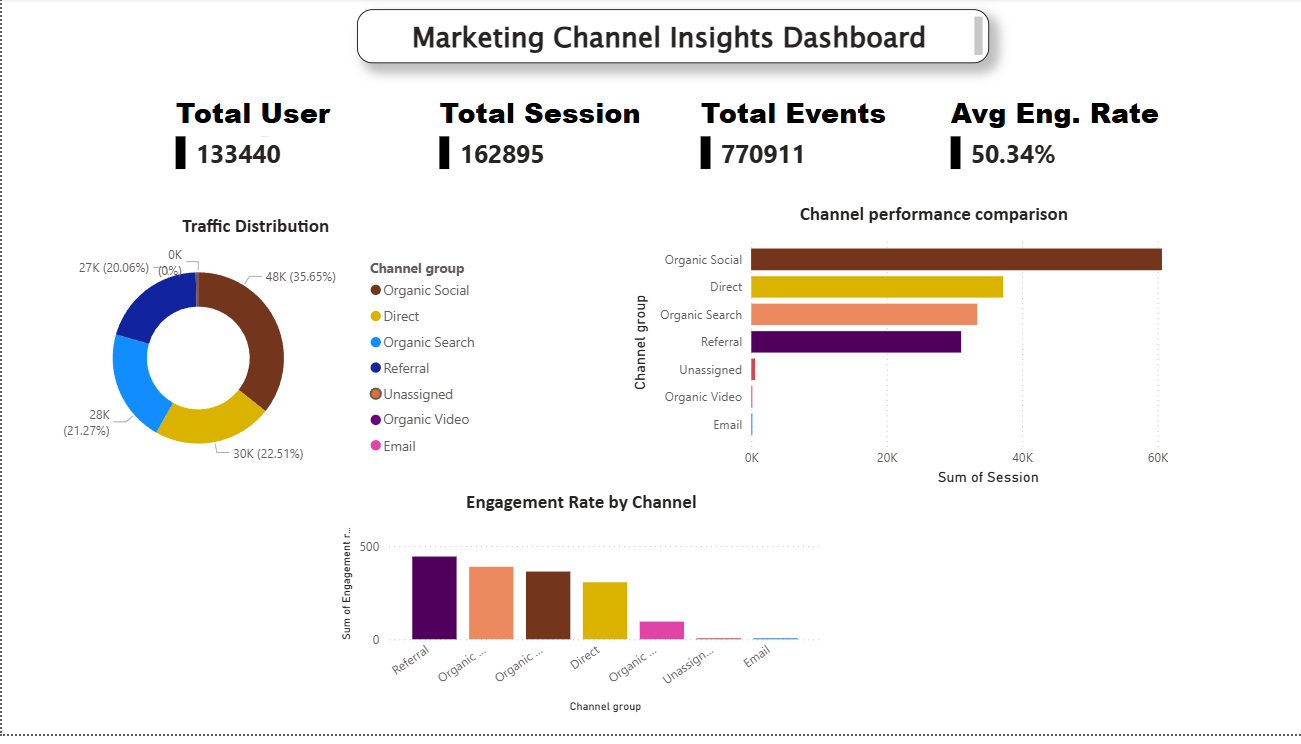

What the dashboard file says about the page in this screenshot:
{"tool":"powerbi","page":{"name":"Page 1","canvas":[1280,720],"ordinal":0},"visuals":[{"type":"textbox","box":[347.1,11.4,618.6,52.9],"z":0},{"type":"multiRowCard","title":"Total User","fields":{"Values":["Sum(cleanedwebsite.Users)"]},"box":[165,92.5,257.5,92.5],"z":1000},{"type":"donutChart","title":"Traffic Distribution","fields":{"Y":["Sum(cleanedwebsite.Users)"],"Category":["cleanedwebsite.Channel group"]},"box":[19,197,458,259],"z":1004},{"type":"barChart","title":"Channel performance comparison","fields":{"Category":["cleanedwebsite.Channel group"],"Y":["Sum(cleanedwebsite.Session)"]},"box":[611,186,601,282],"z":1005},{"type":"clusteredColumnChart","title":"Engagement Rate by Channel ","fields":{"Category":["cleanedwebsite.Channel group"],"Y":["Sum(cleanedwebsite.Engagement rate)"]},"box":[371,479,480,223],"z":1006},{"type":"multiRowCard","title":"Total Session","fields":{"Values":["Sum(cleanedwebsite.Session)"]},"box":[422.5,92.5,256.2,92.5],"z":1007},{"type":"multiRowCard","title":"Total Events","fields":{"Values":["Sum(cleanedwebsite.Event count)"]},"box":[678.8,92.5,256.2,92.5],"z":1008},{"type":"multiRowCard","title":"Avg Eng. Rate","fields":{"Values":["Avg(cleanedwebsite.Engagement rate)"]},"box":[923.8,92.5,256.2,92.5],"z":1009}]}

Visuals, with their boxes in screenshot pixels (x1, y1, x2, y2), scaled from the page's 1280x720 canvas onto the 1301x744 screenshot:
textbox: (353, 12, 982, 66)
"Total User" multiRowCard: (168, 96, 429, 191)
"Traffic Distribution" donutChart: (19, 204, 485, 471)
"Channel performance comparison" barChart: (621, 192, 1232, 484)
"Engagement Rate by Channel " clusteredColumnChart: (377, 495, 865, 725)
"Total Session" multiRowCard: (429, 96, 690, 191)
"Total Events" multiRowCard: (690, 96, 950, 191)
"Avg Eng. Rate" multiRowCard: (939, 96, 1199, 191)
